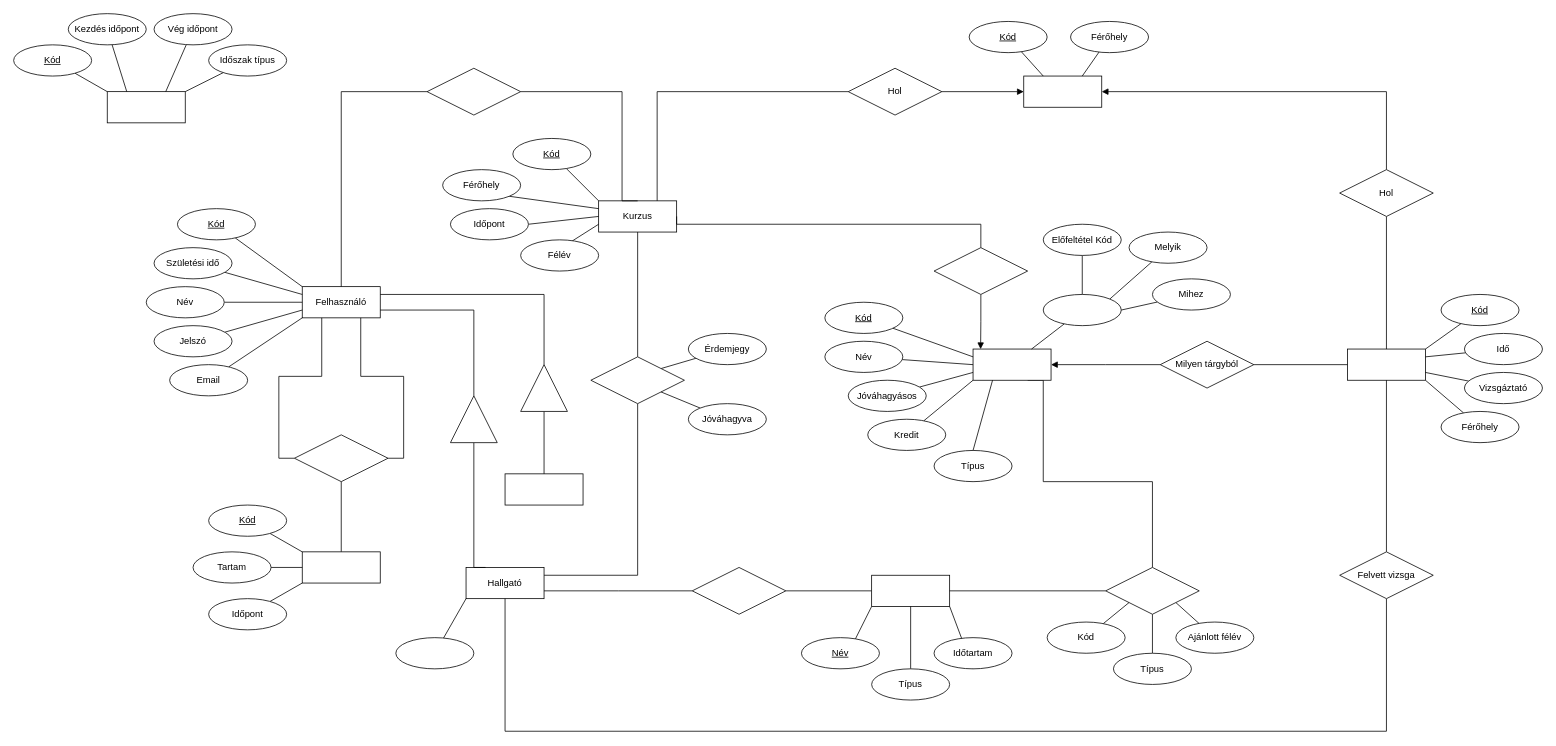
This 1556x746 diagram has some shape labels left out. Each missing label, with the box of its shape:
Admin: (504, 473, 583, 505)
Előfeltétel: (1042, 294, 1121, 326)
Felvett kurzus: (590, 356, 684, 404)
Időszak: (106, 91, 185, 123)
Kezdés éve: (395, 637, 474, 669)
Kurzusok: (933, 247, 1028, 294)
Kurzust oktat: (426, 67, 521, 115)
Küldő, Feladó: (294, 434, 388, 482)
Milyen szakon: (691, 567, 786, 614)
Szak: (871, 574, 950, 606)
Tanterv: (1105, 567, 1199, 614)
Terem: (1023, 75, 1102, 107)
Tárgy: (972, 348, 1051, 380)
Vizsga: (1347, 348, 1425, 380)
Üzenet: (301, 551, 380, 583)
